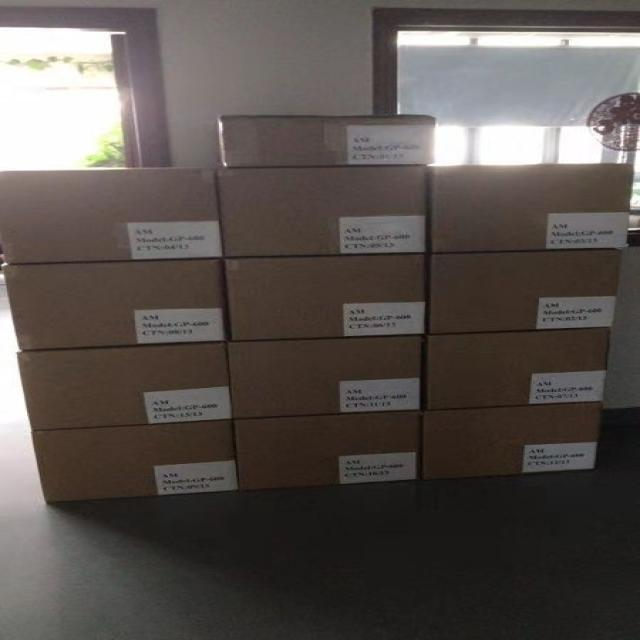Carton: (17, 331, 606, 490), (0, 117, 434, 265), (1, 263, 229, 347), (223, 253, 425, 342), (437, 164, 630, 251), (430, 251, 617, 334), (31, 425, 232, 499), (425, 401, 600, 478)
